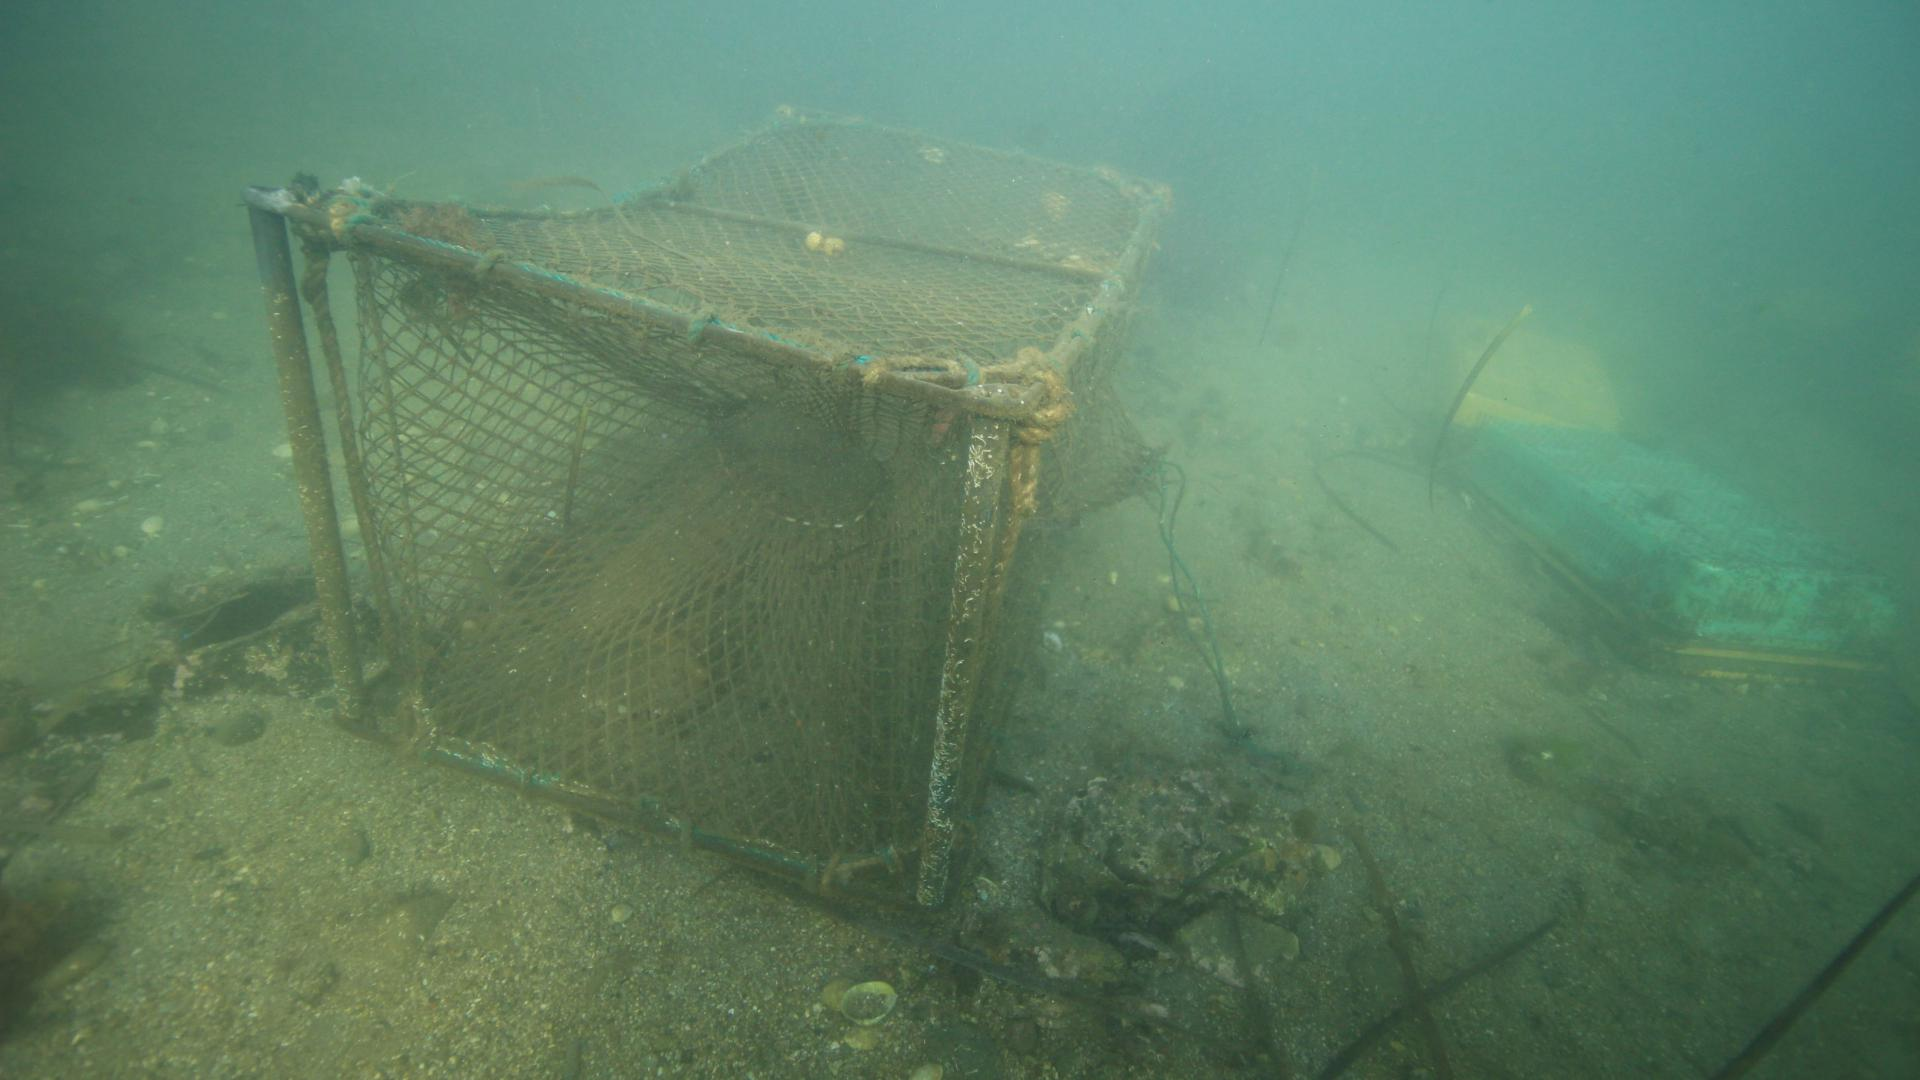rectangular fish trap: (239, 102, 1174, 914)
